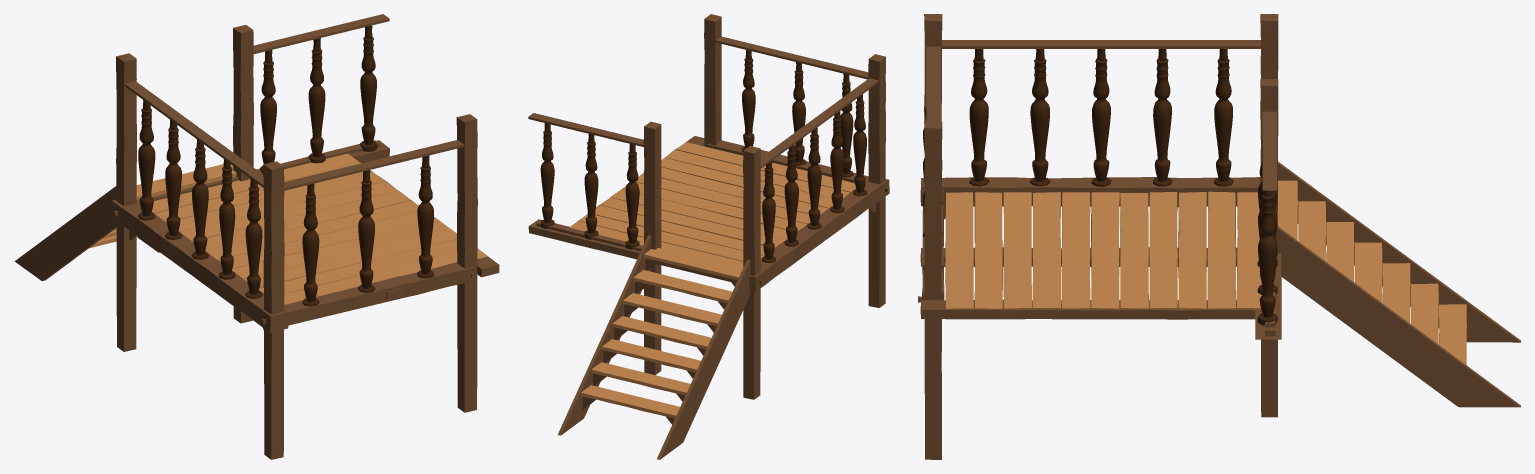
Rendered from FrontPlatteau.fbx.
3 views of the same model, side by side, from view 1: azimuth 30°, elevation 25°; view 2: azimuth 150°, elevation 25°; view 3: azimuth 270°, elevation 25° (orthographic). The views are drawn at different scales.
Parts seen in each view (by area): view 1: FrontPlatteau; view 2: FrontPlatteau; view 3: FrontPlatteau.
Boxes of the visible parts, left/top/right/bottom form: FrontPlatteau: left=14, top=14, right=499, bottom=459; FrontPlatteau: left=528, top=14, right=889, bottom=459; FrontPlatteau: left=918, top=14, right=1520, bottom=459.
Size of the model in its own units: 2.35 by 2.4 by 3.94.
